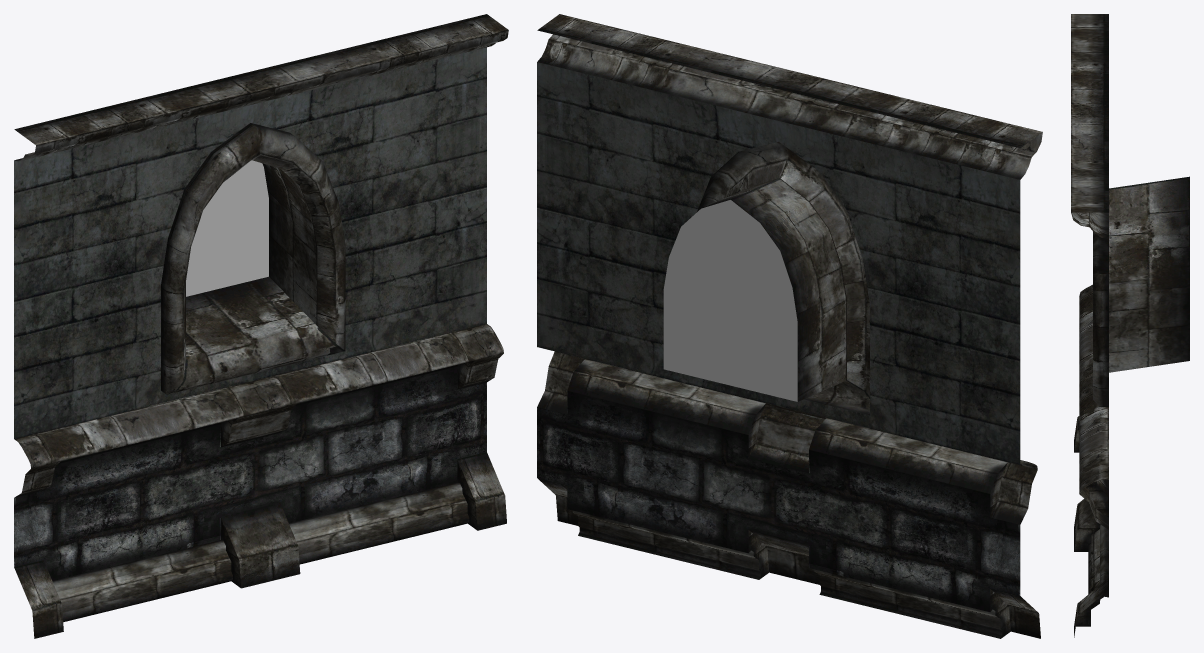
File: window_blue_alt.dae
3 views of the same model, side by side, from view 1: azimuth 30°, elevation 25°; view 2: azimuth 150°, elevation 25°; view 3: azimuth 270°, elevation 25° (orthographic). The views are drawn at different scales.
Parts seen in each view (by area): view 1: polySurface105, polySurface102; view 2: polySurface105, polySurface102; view 3: polySurface105.
Part boxes in pixels (x1,y1,x2,y2): polySurface105: [14, 14, 508, 638]; polySurface102: [186, 160, 268, 296]; polySurface105: [537, 14, 1042, 638]; polySurface102: [663, 200, 797, 401]; polySurface105: [1071, 14, 1189, 637].
Bounding box in the file's own units: 4 × 4 × 1.01.
